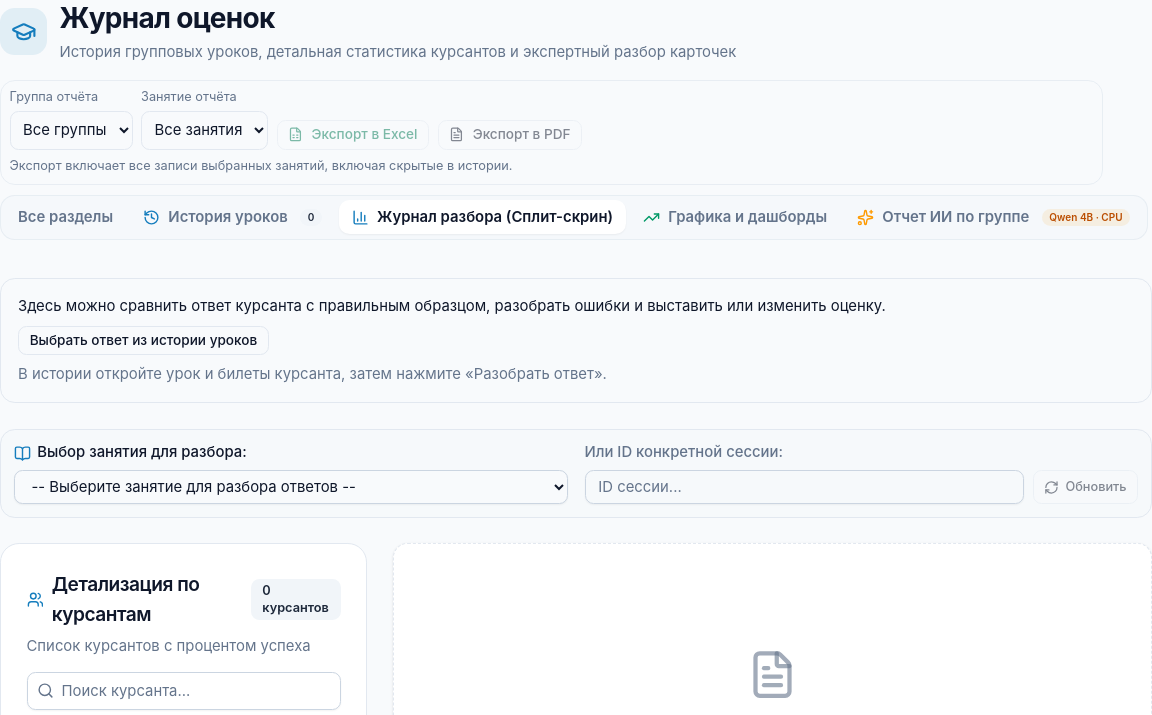
it: refreshes the displayed score after a numeric revision in the existing split-screen
Type "session-1" into the field named "Идентификатор сессии". click: (804, 487)
box: [584,470,1024,504]
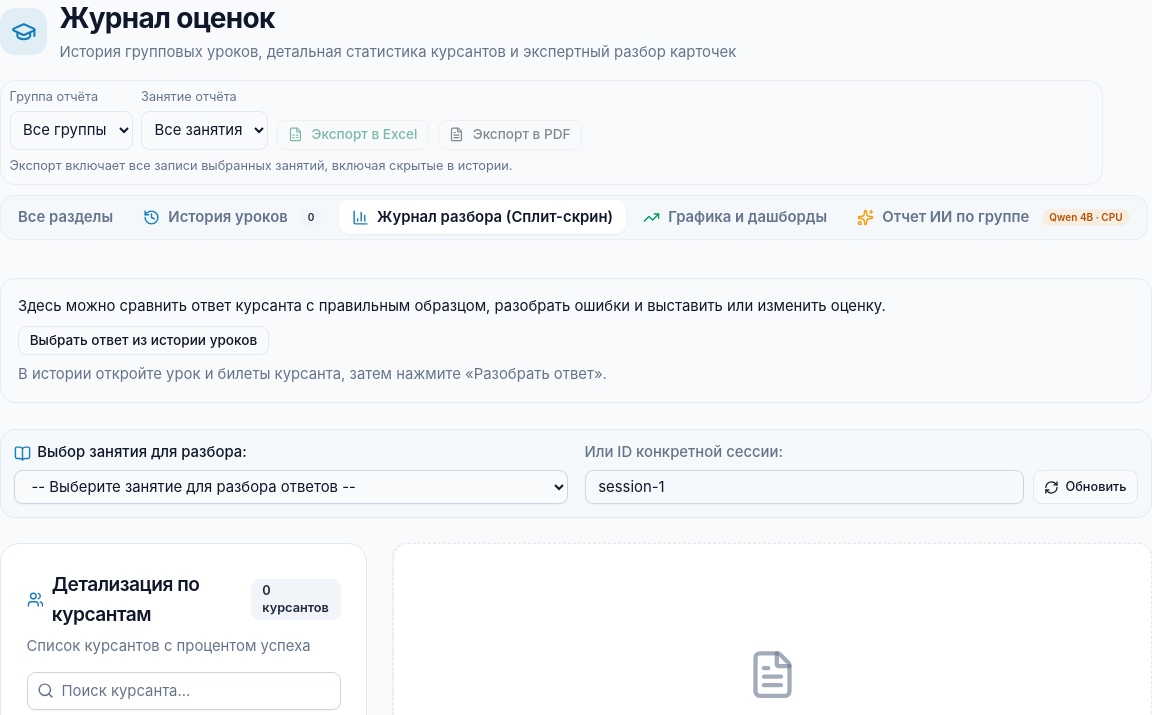
Click the button "Обновить". click: (1085, 487)
box: [1032,470,1138,504]
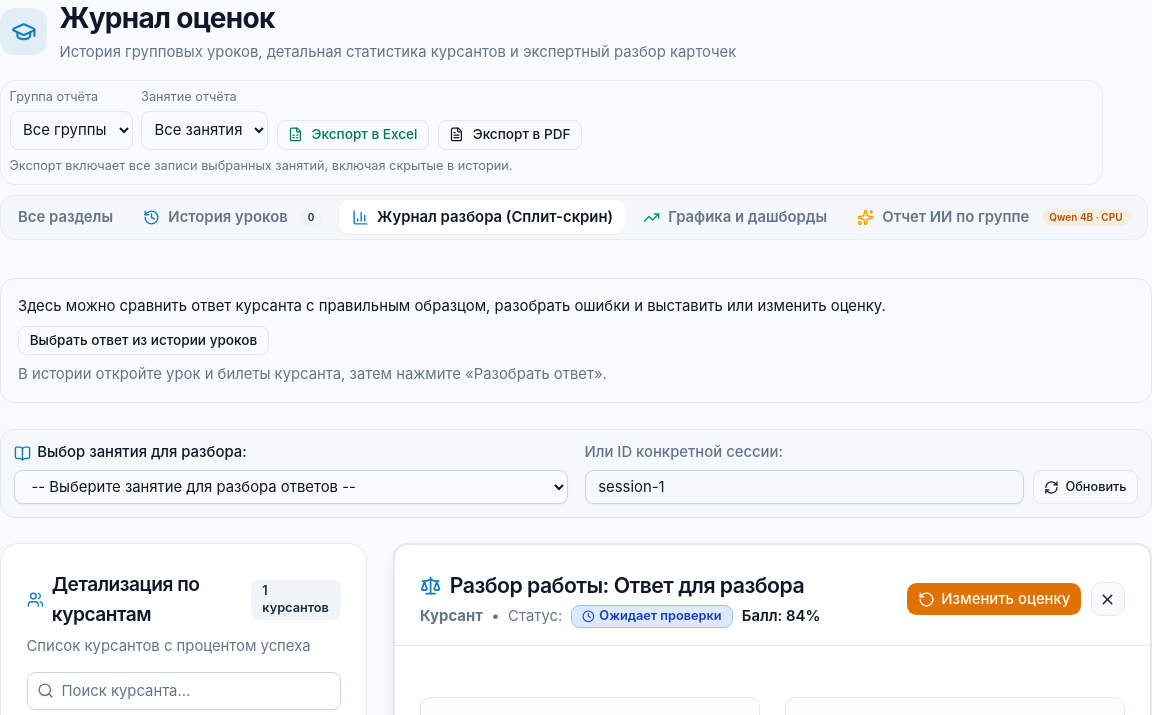
Click the button "Изменить оценку". click: (994, 599)
box: [906,582,1082,616]
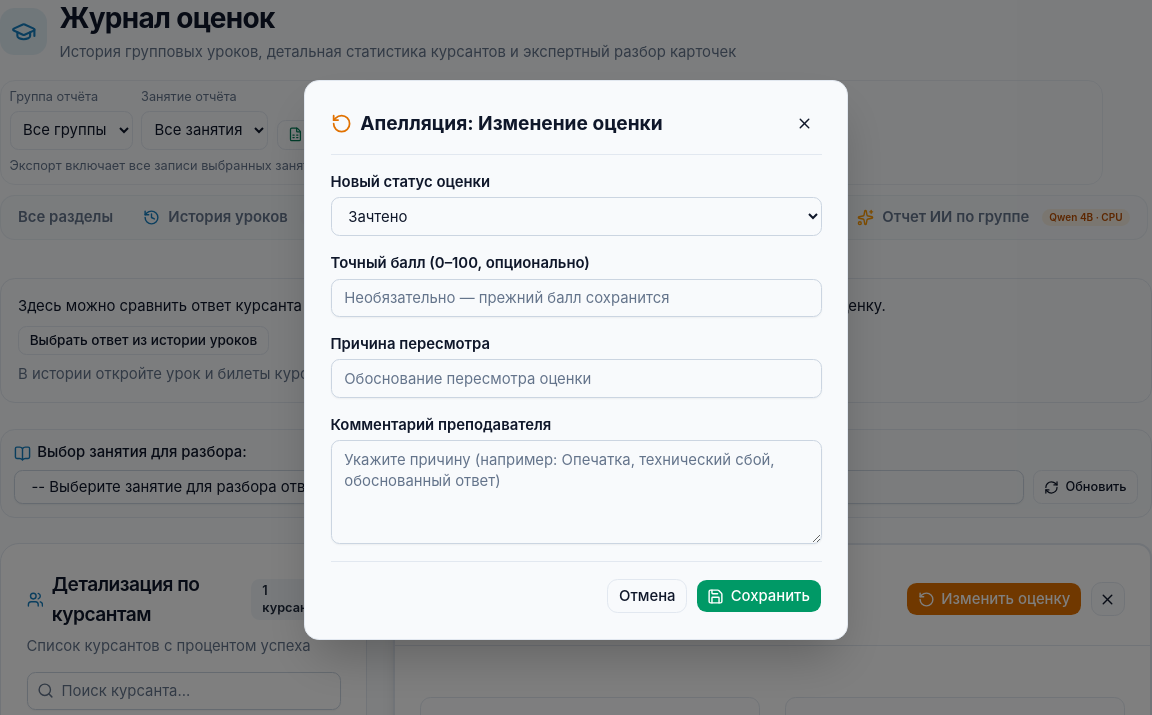
Type "73.5" into the number field labelled "Точный балл (0–100, опционально)". click: (576, 298)
box: [330,279,822,317]
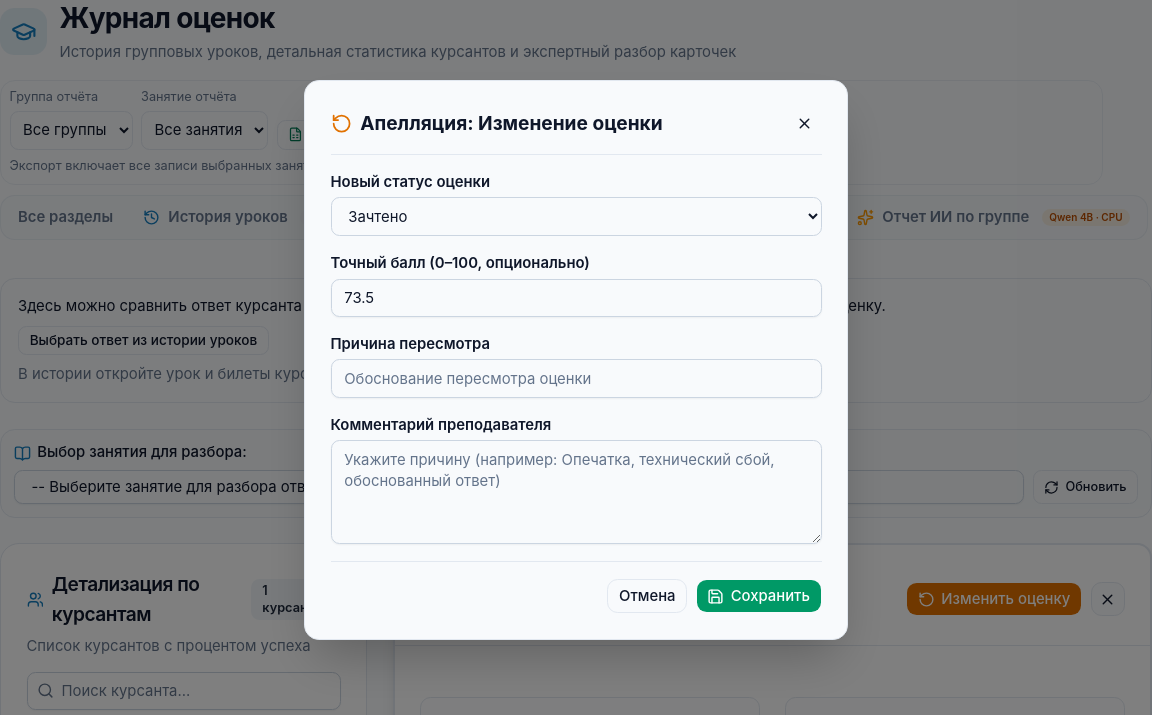
Click the button "Сохранить". click: (759, 596)
box: [696,579,822,613]
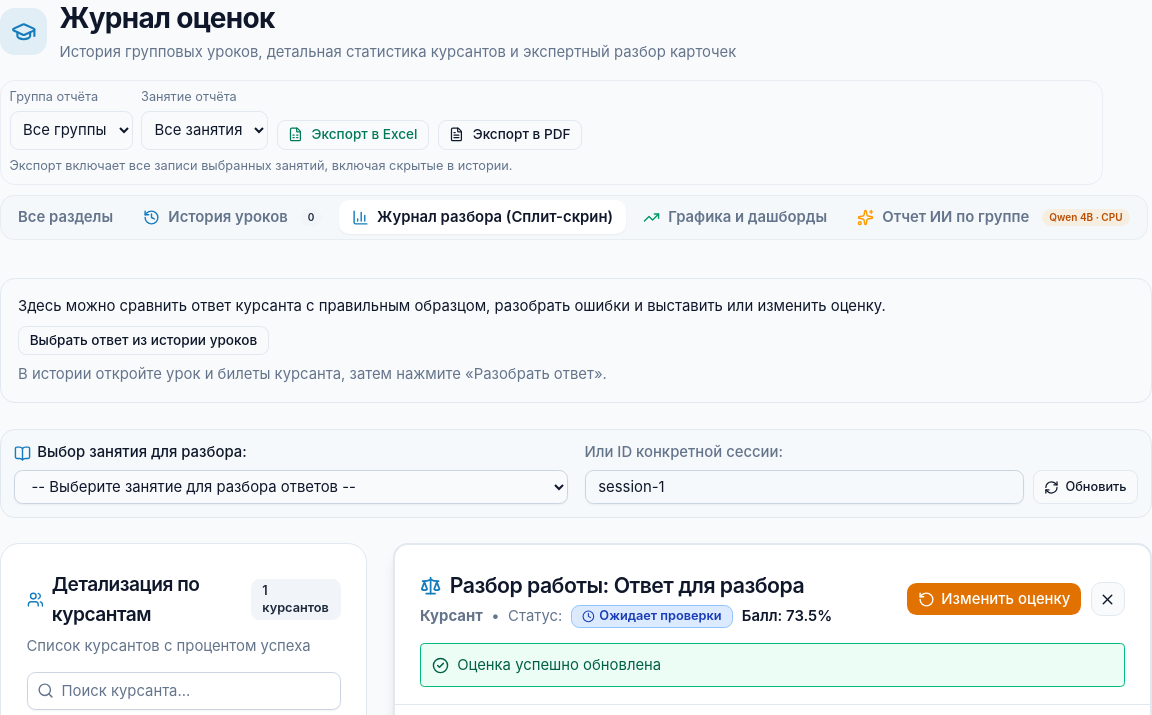
Now the text "Балл: 73.5%" is shown, box [742,606,832,627]
